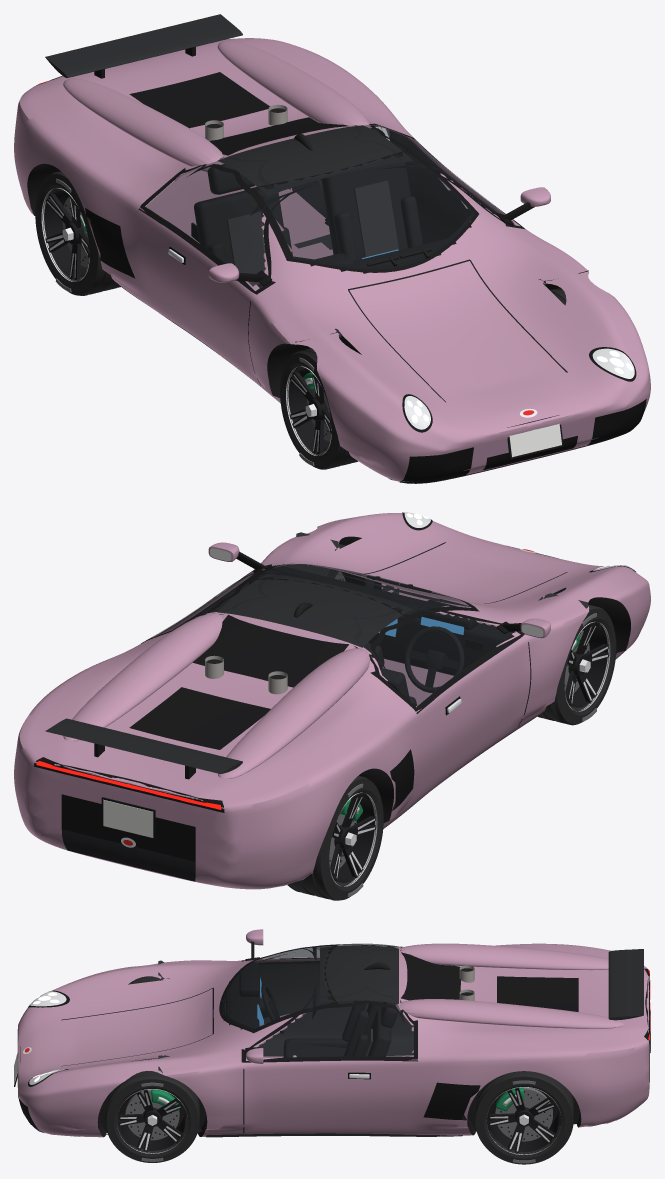
3 views of the same model, one above another, from view 1: azimuth 30°, elevation 25°; view 2: azimuth 150°, elevation 25°; view 3: azimuth 270°, elevation 25° (orthographic). The views are drawn at different scales.
Visible parts, largest first — view 1: Body, Wheel_RR, Wheel_FR, Wheel_RL; view 2: Body, Wheel_RR, Wheel_FR; view 3: Body, Wheel_RL, Wheel_FL.
Boxes of the visible parts, bbox=[...] form: Body: bbox=[14, 14, 650, 483]; Wheel_RR: bbox=[35, 171, 120, 295]; Wheel_FR: bbox=[280, 348, 358, 469]; Wheel_RL: bbox=[289, 179, 328, 225]; Body: bbox=[14, 512, 650, 889]; Wheel_RR: bbox=[287, 775, 383, 900]; Wheel_FR: bbox=[537, 605, 616, 725]; Body: bbox=[14, 929, 650, 1137]; Wheel_RL: bbox=[474, 1071, 573, 1164]; Wheel_FL: bbox=[105, 1071, 199, 1162].
Bounding box in the file's own units: 2.23 × 1.21 × 4.68.
